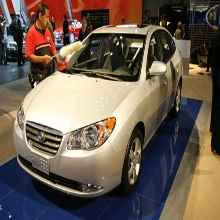no damage: (13, 23, 184, 198)
